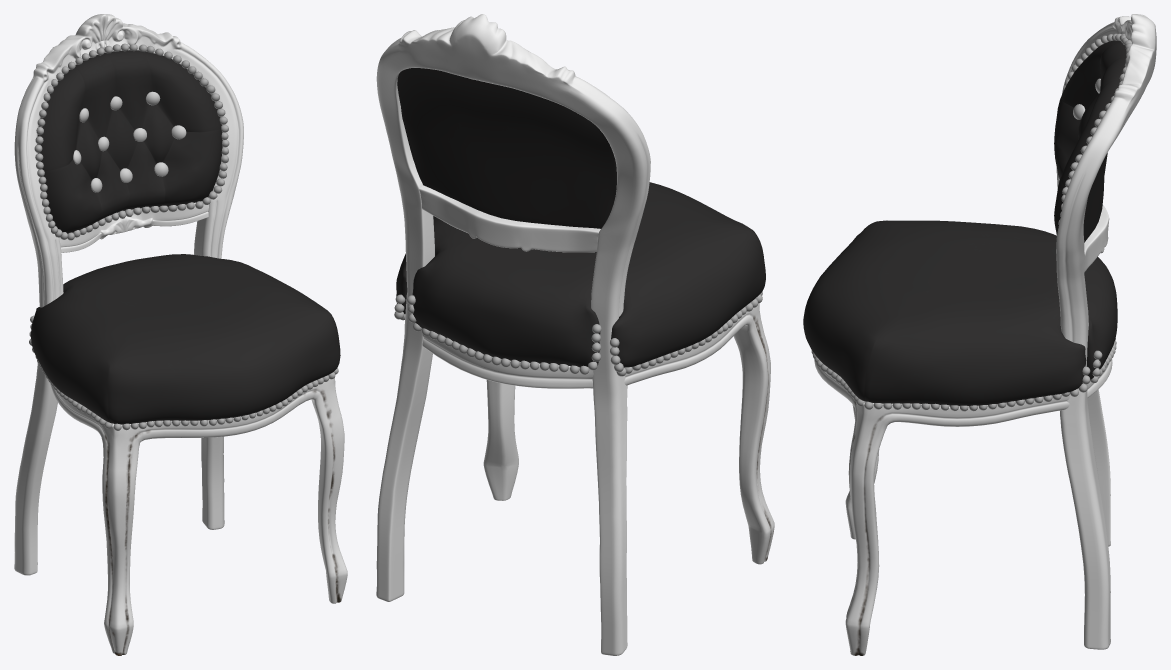
File: luxury_baroque_dining_chair.glb
3 views of the same model, side by side, from view 1: azimuth 30°, elevation 25°; view 2: azimuth 150°, elevation 25°; view 3: azimuth 270°, elevation 25° (orthographic). The views are drawn at different scales.
Visible parts, largest first — view 1: NEW_2; view 2: NEW_2; view 3: NEW_2.
Boxes of the visible parts, left/top/right/bottom form: NEW_2: left=14, top=14, right=347, bottom=655; NEW_2: left=376, top=14, right=774, bottom=655; NEW_2: left=803, top=14, right=1156, bottom=655.
Size of the model in its own units: 0.4865 by 0.9786 by 0.5401.
1 material, 1 textured.
